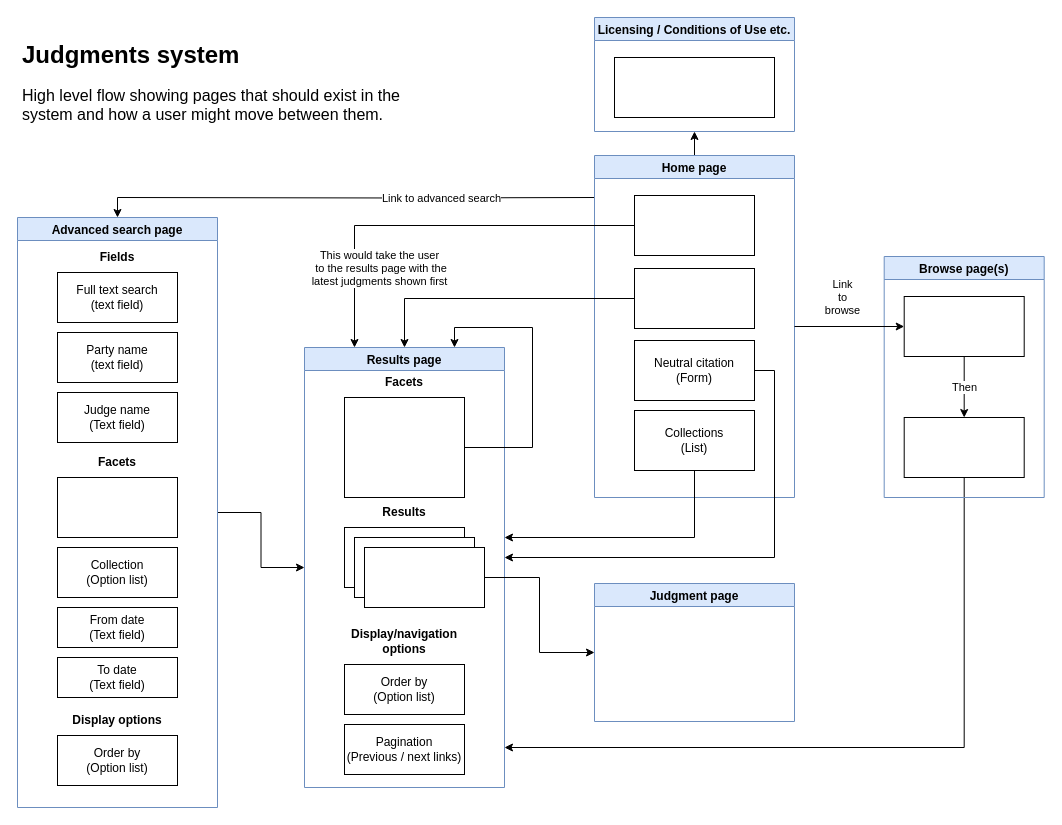
Image size: 1062x825. Some labels were removed from this diagram. Here are the shapes that lost their labels. From the top down, the centre of each, then its label:
(x=694, y=87): Page(s) describing the licensing and conditions of use for judgments
(x=694, y=225): Latest judgments (Link)
(x=694, y=298): Basic search (Form)
(x=963, y=326): Select court
(x=404, y=447): Apply/remove refinement (replicating those available on advanced search)
(x=963, y=447): Select year
(x=117, y=507): Court (Select with opt group)
(x=424, y=577): Judgment
